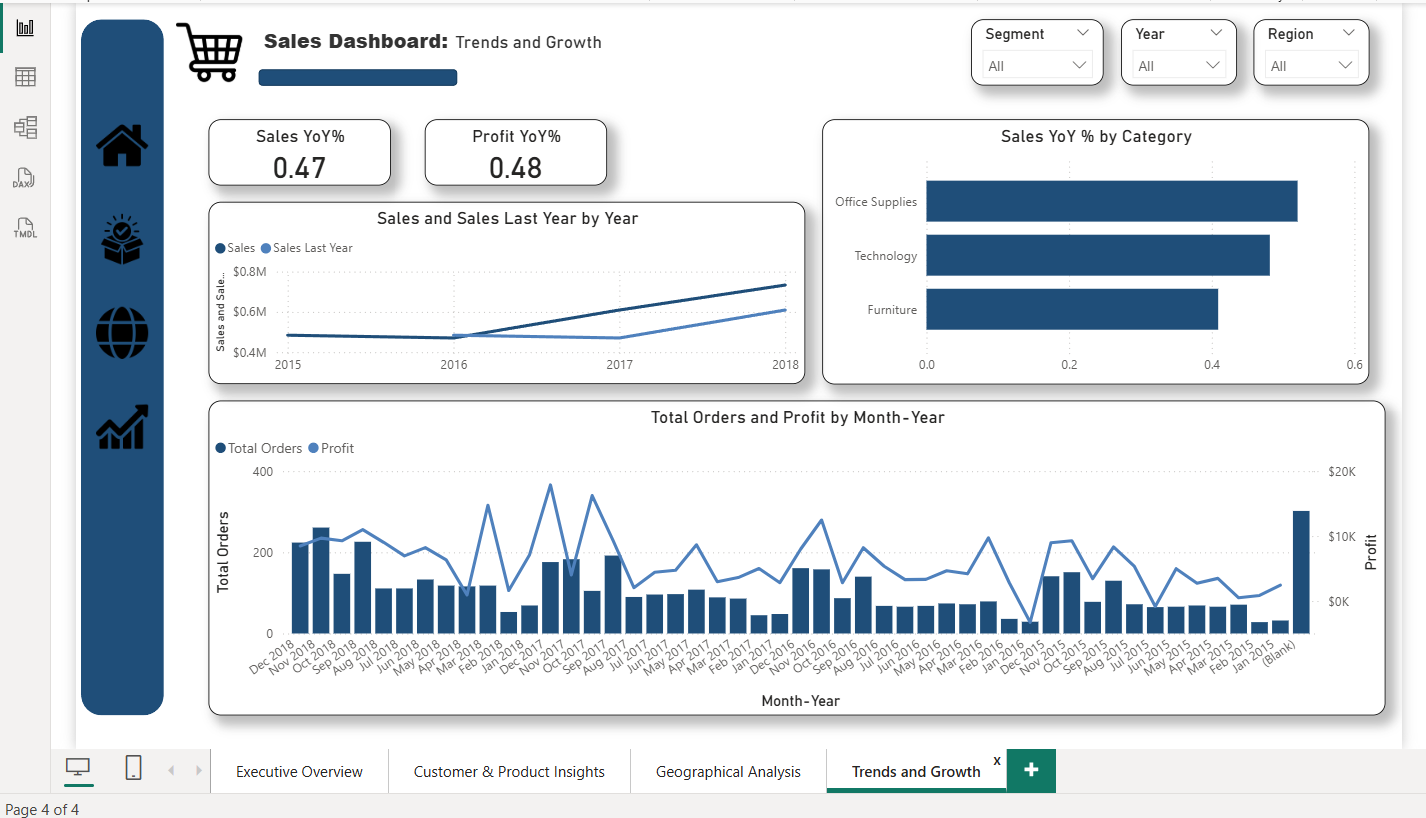

Layout of this report page (visuals, bound fields, positions):
{"tool":"powerbi","page":{"name":"Trends and Growth","canvas":[1280,720],"ordinal":3},"visuals":[{"type":"card","title":"Sales YoY%","fields":{"Values":["fact_superstore.Sales YoY %"]},"box":[128,112,176,64],"z":1000},{"type":"slicer","fields":{"Values":["dim_Date.Year"]},"box":[1008,16,112,64],"z":2000},{"type":"slicer","fields":{"Values":["dim_Customers.Region"]},"box":[1136,16,112,64],"z":3000},{"type":"card","title":"Profit YoY%","fields":{"Values":["fact_superstore.Profit YoY %"]},"box":[336,112,176,64],"z":4000},{"type":"slicer","fields":{"Values":["dim_Customers.Segment"]},"box":[864,16,128,64],"z":5000},{"type":"image","box":[96,16,64,64],"z":6000},{"type":"textbox","box":[176,16,352,48],"z":7000},{"type":"shape","box":[176,64,192,16],"z":8000},{"type":"shape","box":[4.3,16,80,672],"z":9000},{"type":"image","box":[19.3,112.2,50,50],"z":10000},{"type":"lineClusteredColumnComboChart","fields":{"Category":["dim_Date.Month-Year"],"Y2":["Sum(fact_superstore.Profit)"],"Y":["Count(fact_superstore.Order ID)"]},"box":[128,384,1136,304],"z":12000},{"type":"lineChart","fields":{"Y":["Sum(fact_superstore.Sales)","fact_superstore.Sales Last Year"],"Category":["dim_Date.Year"]},"box":[128,192,576,176],"z":13000},{"type":"image","box":[19.3,384,50,50],"z":14000},{"type":"image","box":[19.3,202.8,50,50],"z":15000},{"type":"image","box":[19.3,293.4,50,50],"z":16000},{"type":"barChart","fields":{"Category":["dim_Products.Category"],"Y":["fact_superstore.Sales YoY %"]},"box":[720,112,528,256],"z":17000}]}

Visuals, with their boxes on the page's 1280x720 design canvas (x1, y1, x2, y2). These are canvas units, not pixel positions in the 1426x818 screenshot, which may show the page scaled, cropped or inside an application window:
"Sales YoY%" card: {"x1": 128, "y1": 112, "x2": 304, "y2": 176}
slicer - dim_Date.Year: {"x1": 1008, "y1": 16, "x2": 1120, "y2": 80}
slicer - dim_Customers.Region: {"x1": 1136, "y1": 16, "x2": 1248, "y2": 80}
"Profit YoY%" card: {"x1": 336, "y1": 112, "x2": 512, "y2": 176}
slicer - dim_Customers.Segment: {"x1": 864, "y1": 16, "x2": 992, "y2": 80}
image: {"x1": 96, "y1": 16, "x2": 160, "y2": 80}
textbox: {"x1": 176, "y1": 16, "x2": 528, "y2": 64}
shape: {"x1": 176, "y1": 64, "x2": 368, "y2": 80}
shape: {"x1": 4, "y1": 16, "x2": 84, "y2": 688}
image: {"x1": 19, "y1": 112, "x2": 69, "y2": 162}
lineClusteredColumnComboChart - dim_Date.Month-Year x Sum(fact_superstore.Profit): {"x1": 128, "y1": 384, "x2": 1264, "y2": 688}
lineChart - Sum(fact_superstore.Sales) x fact_superstore.Sales Last Year: {"x1": 128, "y1": 192, "x2": 704, "y2": 368}
image: {"x1": 19, "y1": 384, "x2": 69, "y2": 434}
image: {"x1": 19, "y1": 203, "x2": 69, "y2": 253}
image: {"x1": 19, "y1": 293, "x2": 69, "y2": 343}
barChart - dim_Products.Category x fact_superstore.Sales YoY %: {"x1": 720, "y1": 112, "x2": 1248, "y2": 368}
